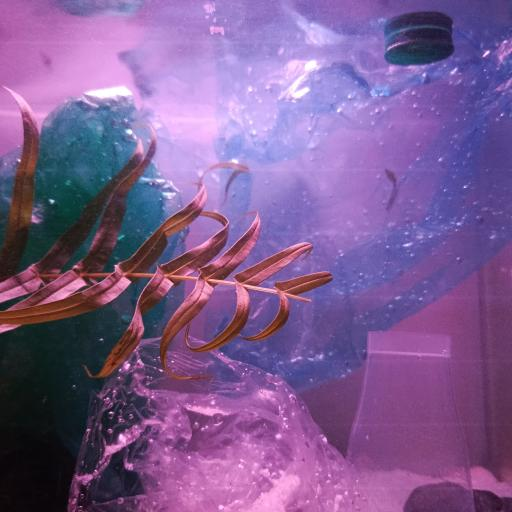bottle_cap: (384, 28, 454, 65)
plastic_bag: (120, 0, 512, 393), (0, 79, 190, 512), (69, 334, 365, 512)
plastic_cup: (346, 330, 476, 512)
